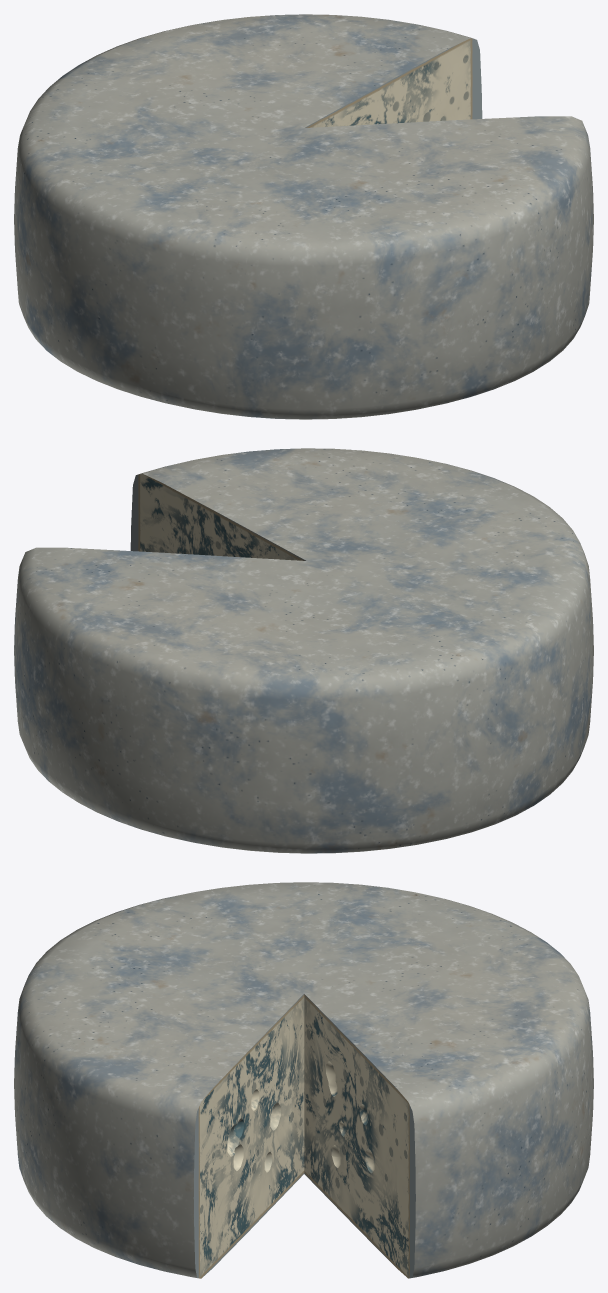
File: SM_FlagCheese_Bleu.fbx
3 renders of one model, top to bottom at view 1: azimuth 30°, elevation 25°; view 2: azimuth 150°, elevation 25°; view 3: azimuth 270°, elevation 25°, orthographic.
Visible parts, largest first — view 1: SM_FlagCheese_Bleu; view 2: SM_FlagCheese_Bleu; view 3: SM_FlagCheese_Bleu.
Part boxes in pixels (box(x1,y1,x2,y2)): SM_FlagCheese_Bleu: box(14, 14, 593, 419); SM_FlagCheese_Bleu: box(14, 448, 593, 853); SM_FlagCheese_Bleu: box(14, 882, 593, 1278).
Size of what is drawn, in the model's own units: 117 by 42 by 121.
1 material, 1 textured.
